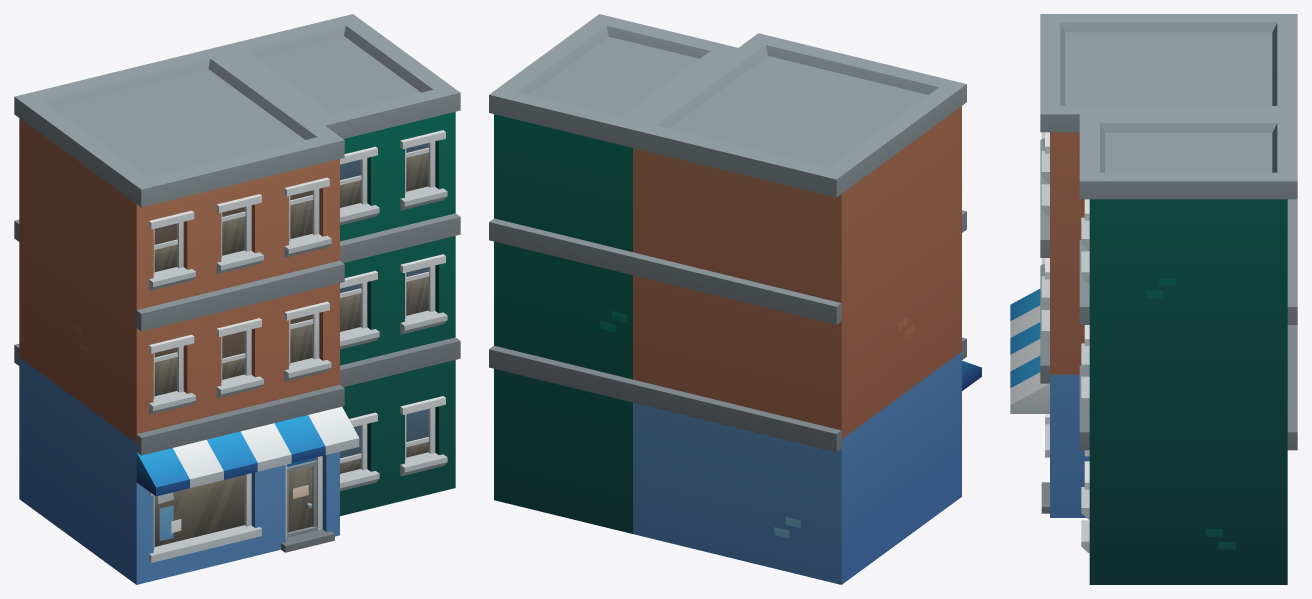
The model's file is building_G_withoutBase.obj.
3 renders of one model, left to right at view 1: azimuth 30°, elevation 25°; view 2: azimuth 150°, elevation 25°; view 3: azimuth 270°, elevation 25°, orthographic. The views are drawn at different scales.
Bounding box in the file's own units: 2.01 × 2.25 × 1.45.
1 material, 1 textured.
